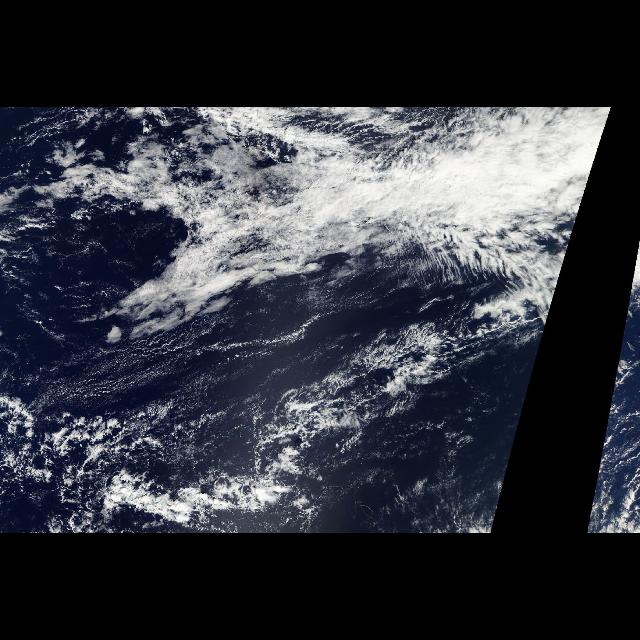Fish: (240, 266, 562, 486)
Gravel: (7, 381, 235, 523)
Sugar: (5, 330, 358, 408)
